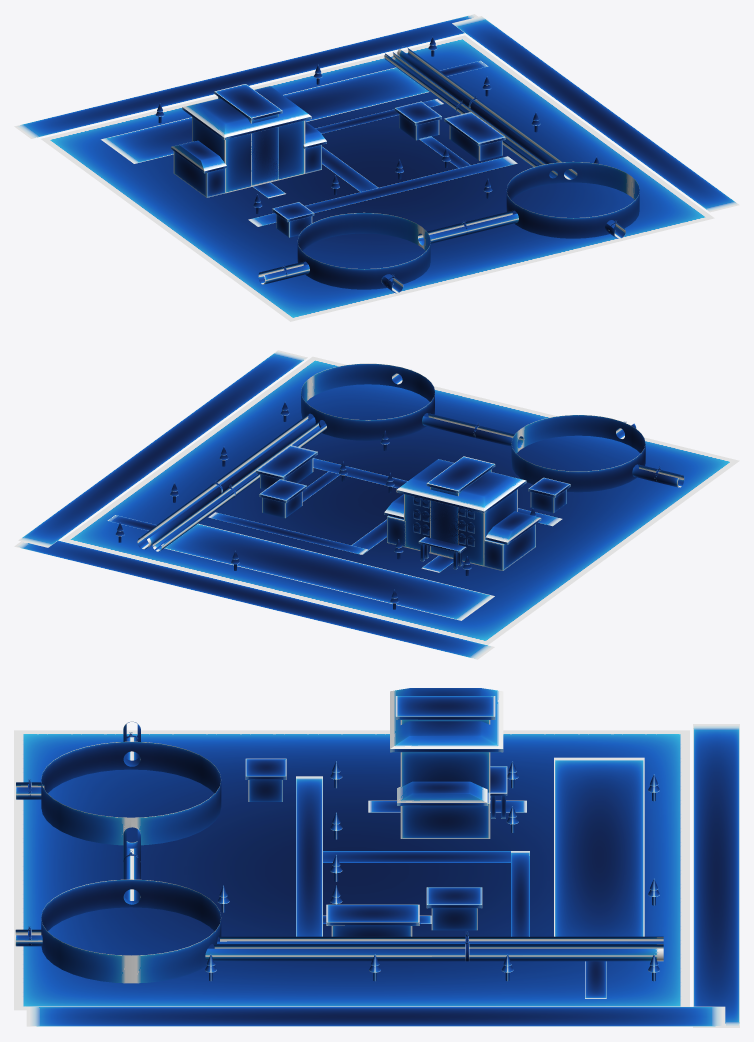
3 views of the same model, one above another, from view 1: azimuth 30°, elevation 25°; view 2: azimuth 150°, elevation 25°; view 3: azimuth 270°, elevation 25° (orthographic). The views are drawn at different scales.
Visible parts, largest first — view 1: 阀门; view 2: 阀门; view 3: 阀门.
Part boxes in pixels (x1,y1,x2,y2): 阀门: [14, 14, 739, 321]; 阀门: [14, 350, 739, 659]; 阀门: [14, 688, 739, 1027].
Bounding box in the file's own units: 396 × 66.25 × 398.
Materials: 2 (1 with a texture image).
